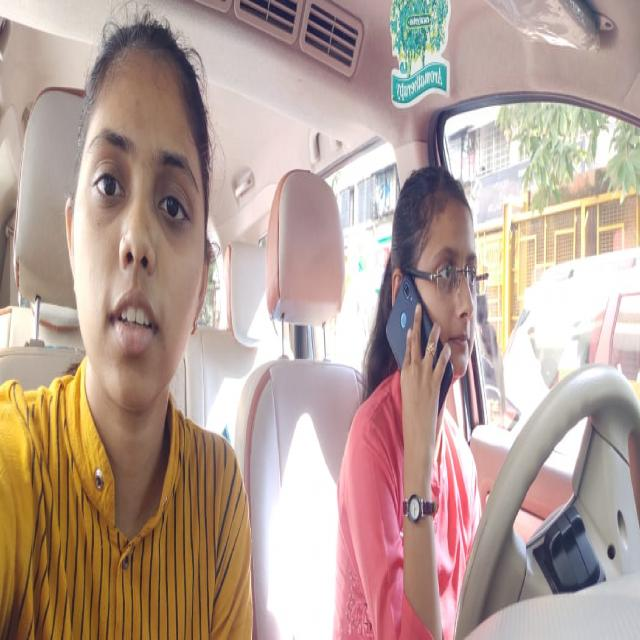mobile: (384, 271, 454, 421)
person: (50, 13, 220, 450), (376, 146, 501, 462)
